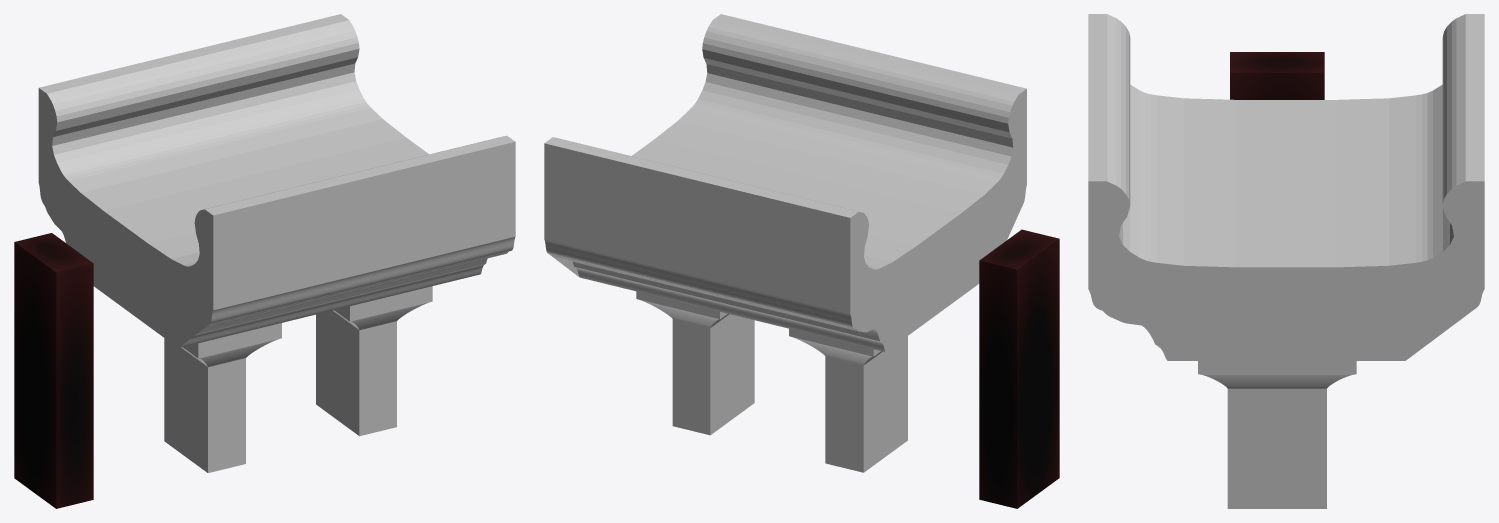
The model's file is Bridge.fbx.
3 views of the same model, side by side, from view 1: azimuth 30°, elevation 25°; view 2: azimuth 150°, elevation 25°; view 3: azimuth 270°, elevation 25° (orthographic). The views are drawn at different scales.
Parts seen in each view (by area): view 1: Bridge, Pillar; view 2: Bridge, Pillar; view 3: Bridge, Pillar.
Part boxes in pixels (x1,y1,x2,y2): Bridge: (38, 14, 515, 472); Pillar: (14, 233, 93, 508); Bridge: (544, 14, 1026, 472); Pillar: (979, 229, 1059, 508); Bridge: (1088, 14, 1484, 508); Pillar: (1230, 52, 1324, 99).
Size of the model in its own units: 263 by 200 by 200.
